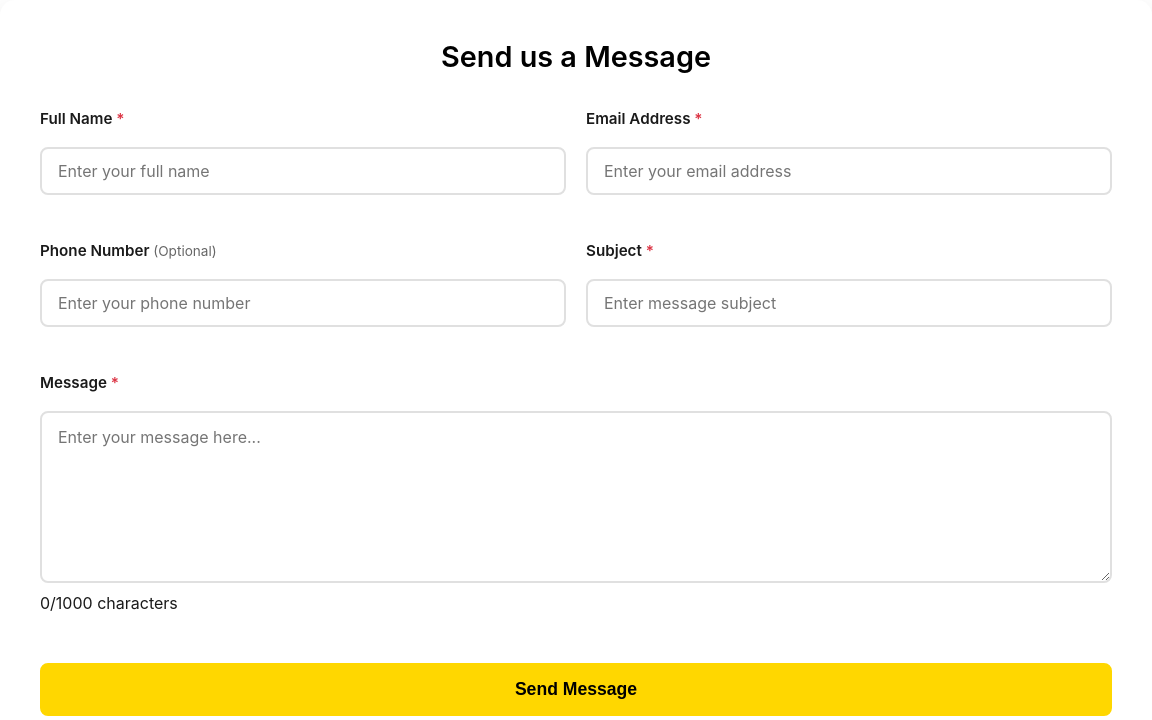
ContactForm › shows validation errors for empty required fields
Click the button "Send Message": (576, 690) left=40, top=663, right=1112, bottom=716
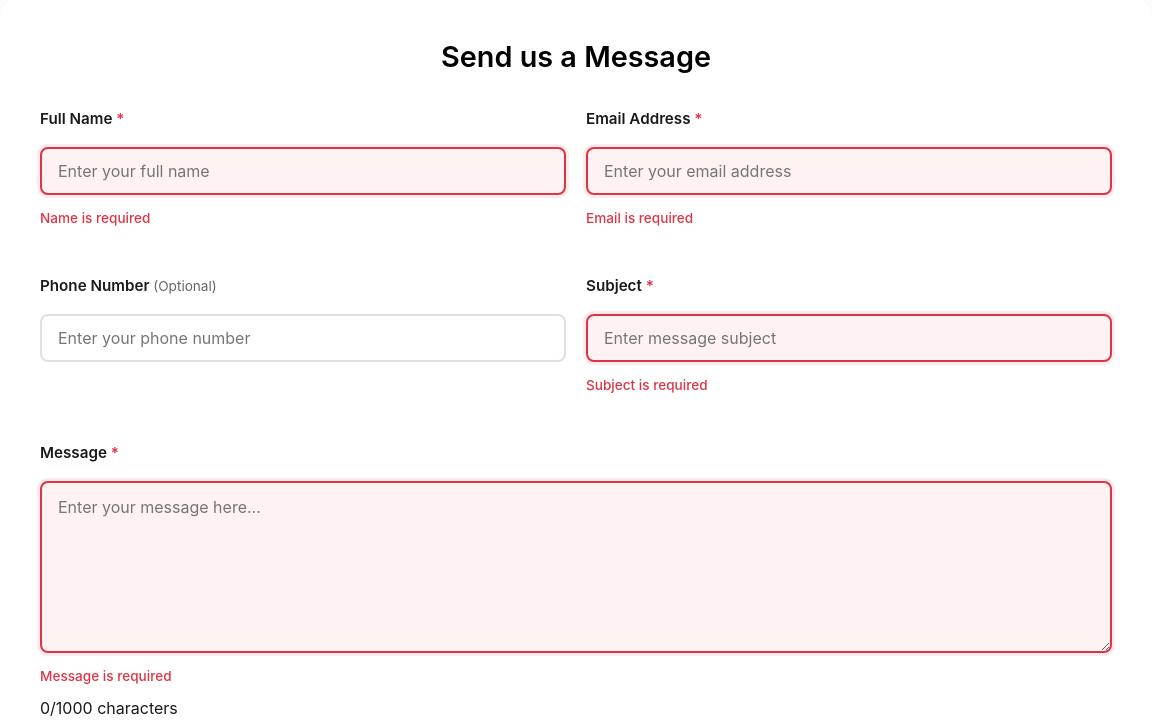
Now the text "Name is required" is shown, box left=40, top=210, right=150, bottom=226
Now the text "Email is required" is shown, box left=586, top=210, right=693, bottom=226
Now the text "Subject is required" is shown, box left=586, top=377, right=708, bottom=393
